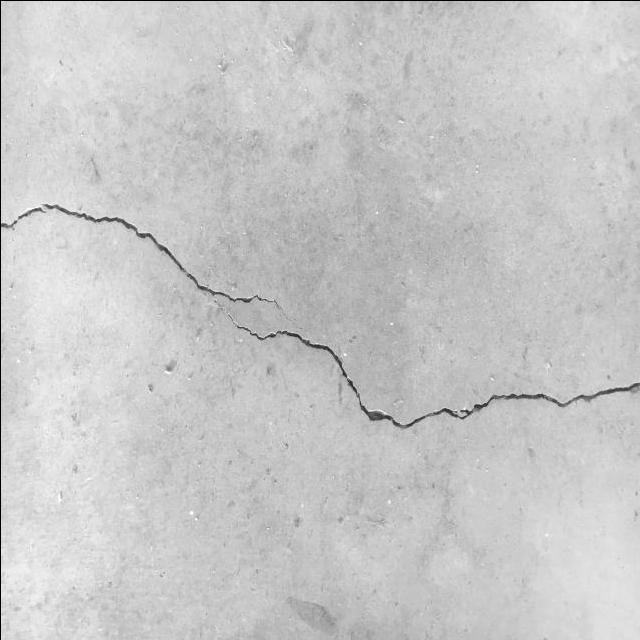SurfaceCrack: (0, 171, 639, 451)
